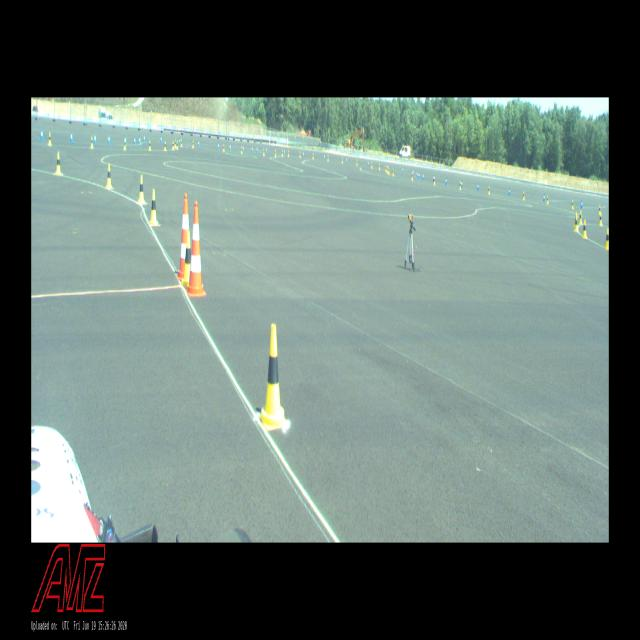blue_cone: (41, 129, 43, 140), (70, 132, 72, 142), (108, 134, 110, 144), (94, 134, 96, 144), (138, 136, 140, 144), (134, 136, 136, 144), (125, 136, 127, 144), (580, 200, 582, 208), (416, 170, 418, 178), (477, 183, 479, 190), (445, 177, 447, 184), (198, 140, 200, 147), (218, 142, 220, 149), (543, 194, 545, 201), (179, 138, 181, 145), (418, 172, 420, 179), (422, 173, 424, 180), (160, 136, 162, 142), (229, 144, 231, 150), (412, 170, 414, 176), (302, 152, 304, 157), (509, 187, 510, 195), (461, 180, 462, 188), (433, 174, 434, 182), (257, 146, 258, 153), (144, 134, 145, 141), (243, 145, 244, 152), (252, 146, 253, 152), (346, 157, 347, 163), (324, 154, 325, 160), (266, 148, 267, 153), (402, 167, 403, 172), (284, 150, 285, 154), (368, 162, 368, 166)
large_orange_cone: (185, 202, 206, 296), (176, 194, 189, 280)
yellow_cone: (258, 324, 286, 431), (181, 230, 191, 285), (150, 189, 158, 225), (138, 175, 145, 203), (106, 164, 112, 188), (56, 152, 61, 175), (574, 213, 578, 232), (605, 229, 609, 248), (583, 220, 587, 238), (48, 133, 52, 145), (574, 211, 577, 227), (579, 210, 582, 223), (164, 142, 167, 151), (459, 181, 462, 190), (91, 136, 93, 148), (600, 213, 602, 225), (124, 139, 126, 150), (523, 191, 525, 200), (572, 200, 574, 209), (546, 195, 548, 204), (149, 141, 151, 150), (176, 140, 178, 149), (598, 205, 600, 214), (241, 146, 243, 154), (192, 141, 194, 148), (411, 173, 413, 180), (488, 187, 490, 194), (356, 159, 358, 166), (223, 144, 225, 151), (385, 165, 387, 172), (263, 149, 265, 155), (299, 152, 301, 158), (173, 141, 174, 150), (181, 139, 182, 147), (288, 150, 289, 157), (434, 177, 435, 184), (387, 166, 388, 173), (175, 140, 176, 147), (282, 150, 283, 157), (388, 167, 389, 174), (379, 164, 380, 170), (313, 153, 314, 159), (371, 162, 372, 168), (275, 150, 276, 156), (342, 157, 343, 163), (392, 169, 393, 175), (328, 155, 328, 161)
